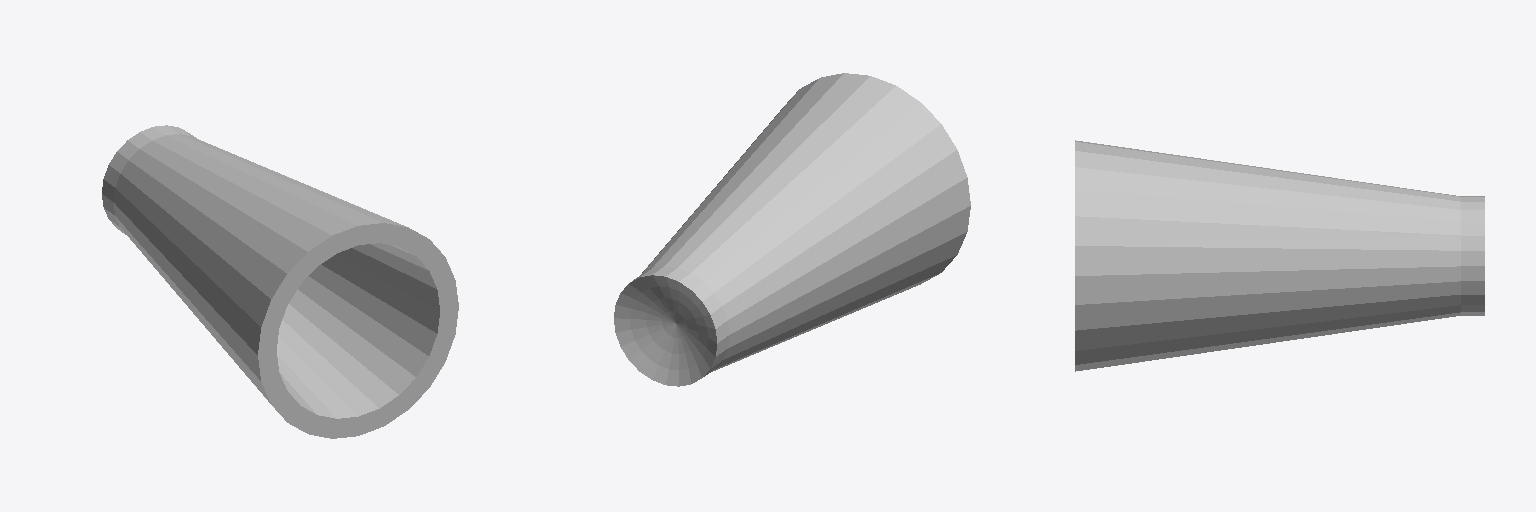
File: cup_0004.obj
3 views of the same model, side by side, from view 1: azimuth 30°, elevation 25°; view 2: azimuth 150°, elevation 25°; view 3: azimuth 270°, elevation 25° (orthographic).
Size of the model in its own units: 4.02 by 4.02 by 7.09.